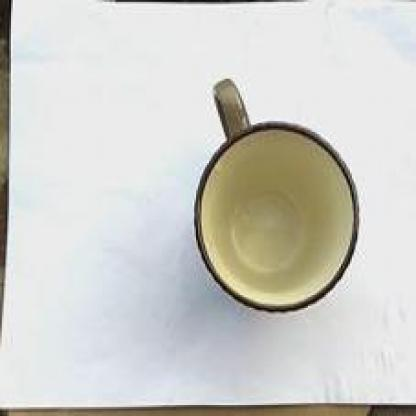mug: (182, 86, 370, 325)
